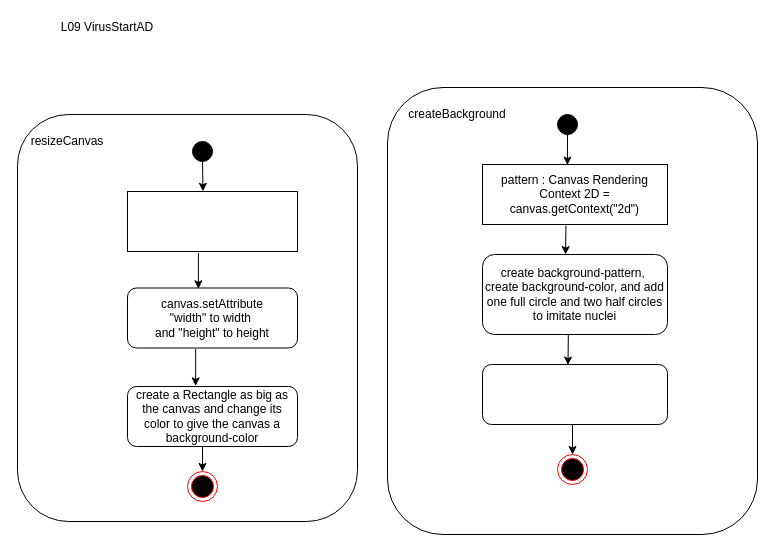
The diagram is 775 pixels wide and 552 high, and some of its shapes have lost their labels. Here are the shapes that lost their labels. From the top down, the box of each, then its label:
(126, 190, 298, 252): width = window.innerWIdth height = window.innerHeight
(482, 364, 668, 424): draw the pattern on the canvas and fill the complete canavs with it
